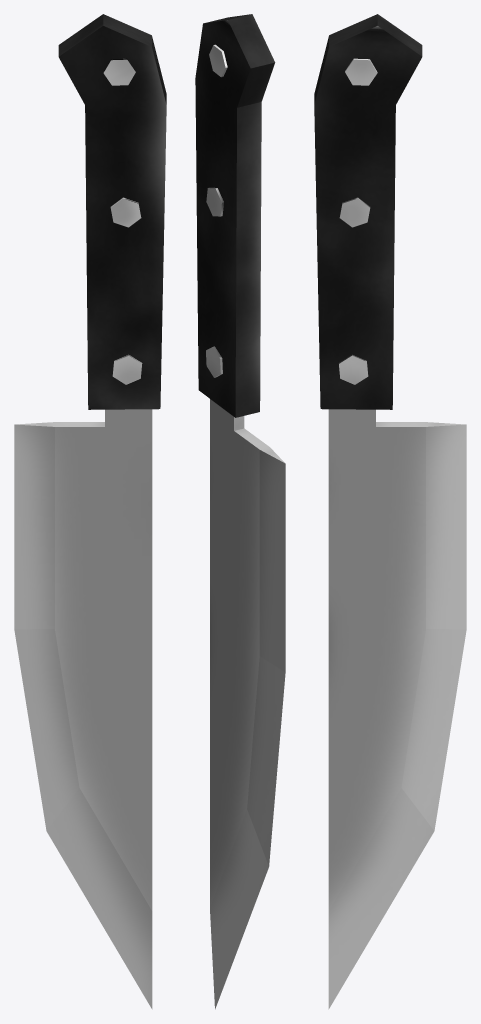
The model's file is FT_knife.fbx.
3 renders of one model, left to right at view 1: azimuth 90°, elevation 25°; view 2: azimuth 210°, elevation 25°; view 3: azimuth 270°, elevation 25°, orthographic. The views are drawn at different scales.
Visible parts, largest first — view 1: FT_knife; view 2: FT_knife; view 3: FT_knife.
Part boxes in pixels (<box>): FT_knife: <box>14,14,166,1009</box>; FT_knife: <box>195,14,285,1009</box>; FT_knife: <box>314,14,466,1009</box>.
Size of the model in its own units: 2.34 by 78.61 by 10.97.
